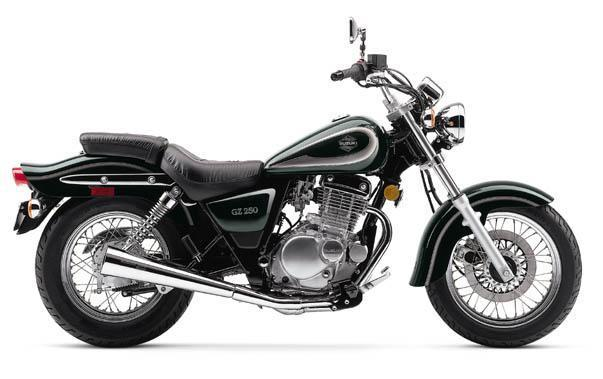Motorcycle: (7, 4, 602, 365)
